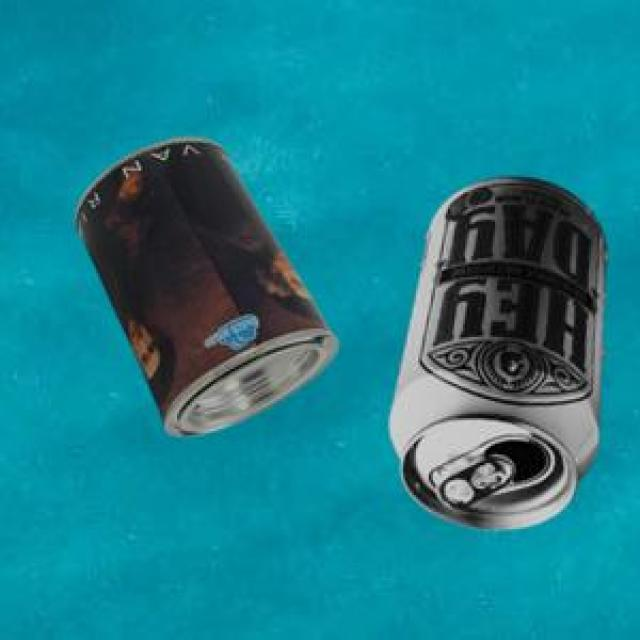logam: (74, 135, 334, 432), (387, 174, 605, 526)
